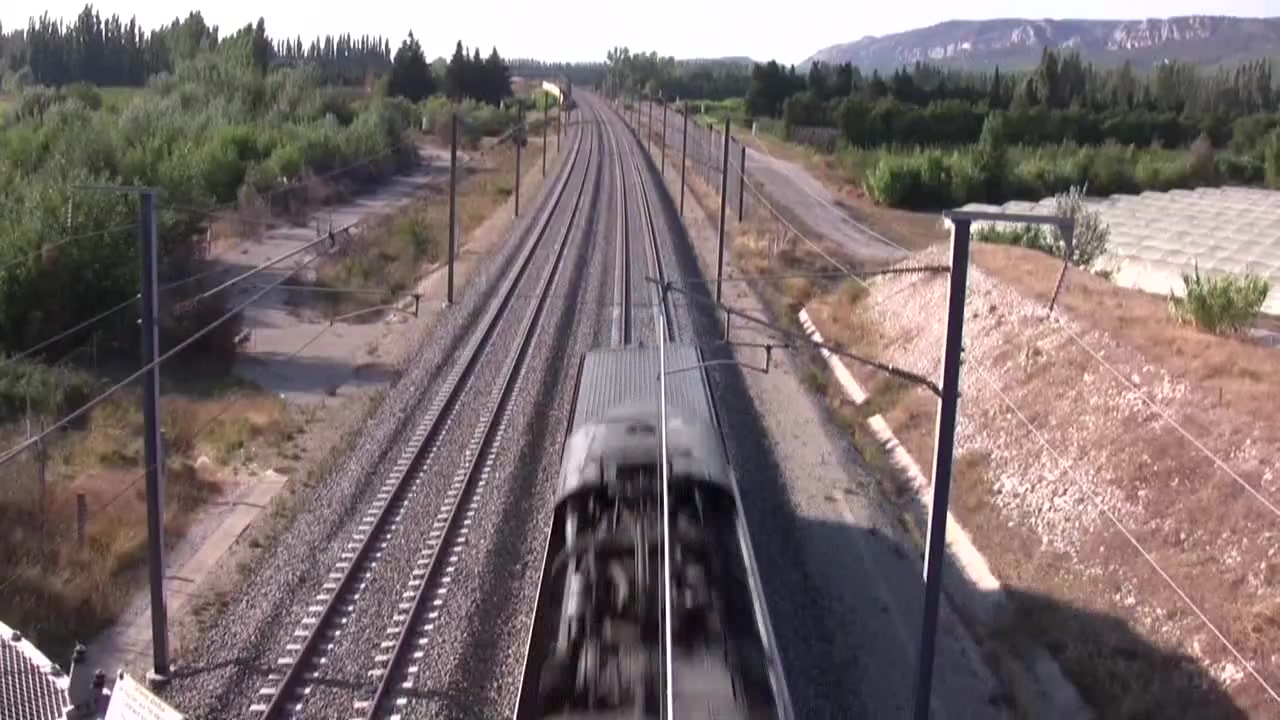train: (507, 336, 801, 720)
